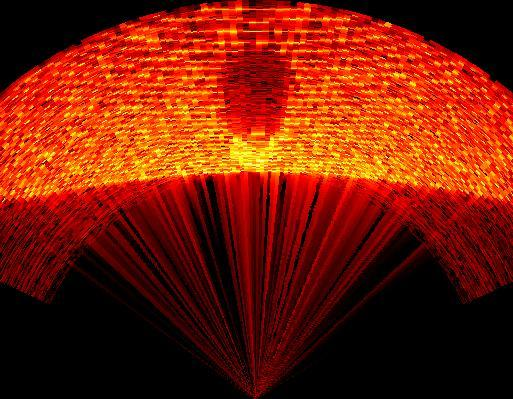box_crate: (214, 45, 296, 150)
